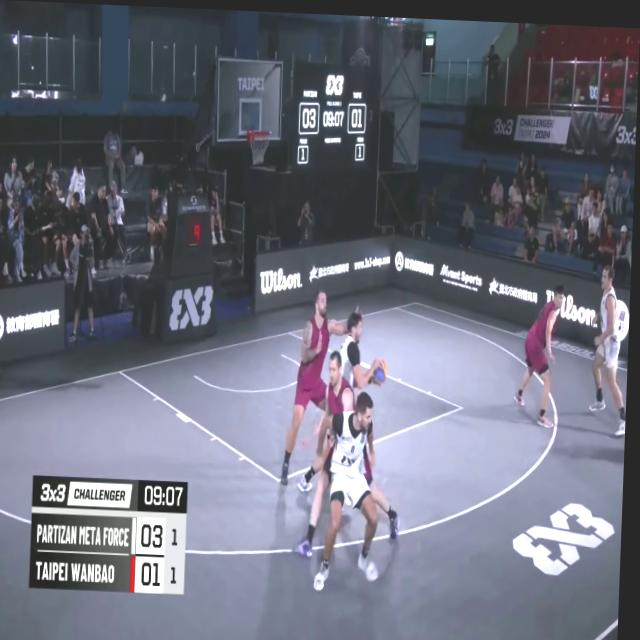ball: (372, 354, 391, 383)
hoop: (246, 123, 273, 166)
player: (306, 384, 401, 593), (281, 289, 356, 485), (308, 343, 374, 545), (323, 305, 395, 476), (589, 248, 633, 439), (518, 277, 565, 423)
